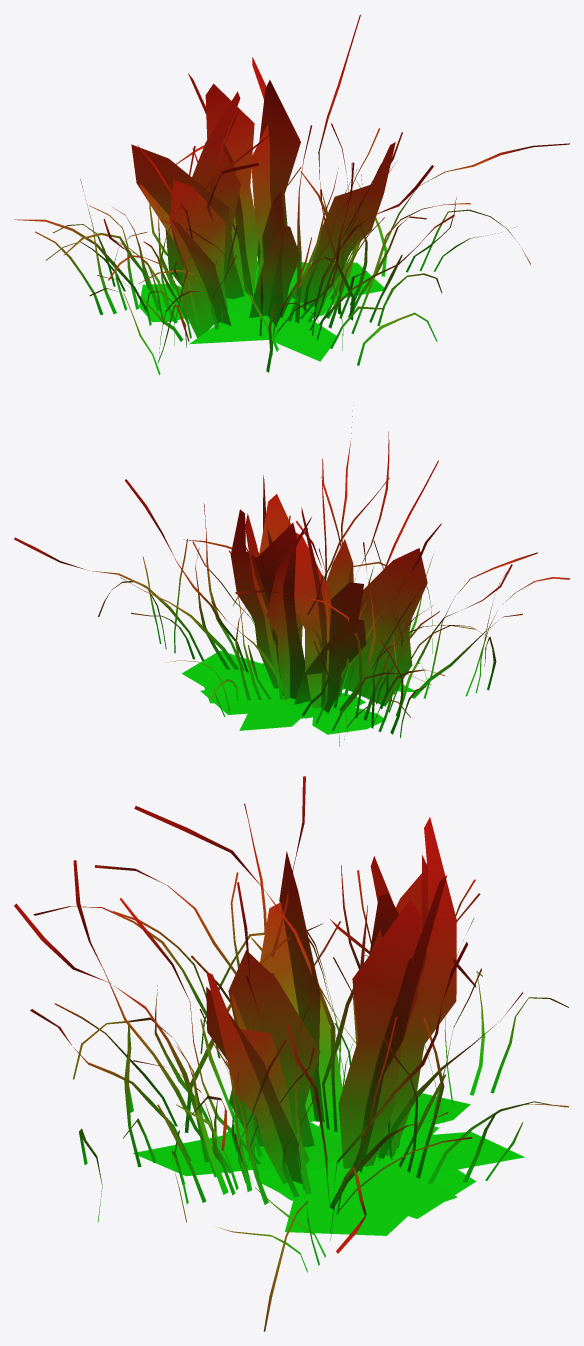
The model's file is uddmcgbia_Var15_LOD0.fbx.
The picture shows the model from 3 angles, top to bottom: view 1: azimuth 30°, elevation 25°; view 2: azimuth 150°, elevation 25°; view 3: azimuth 270°, elevation 25°; orthographic projection. The views are drawn at different scales.
Visible parts, largest first — view 1: _b811_Var15_LOD0; view 2: _b811_Var15_LOD0; view 3: _b811_Var15_LOD0.
Part boxes in pixels (x1,y1,x2,y2): _b811_Var15_LOD0: [14, 14, 569, 374]; _b811_Var15_LOD0: [14, 405, 569, 746]; _b811_Var15_LOD0: [14, 776, 568, 1331].
Bounding box in the file's own units: 16.27 × 7.08 × 10.76.
